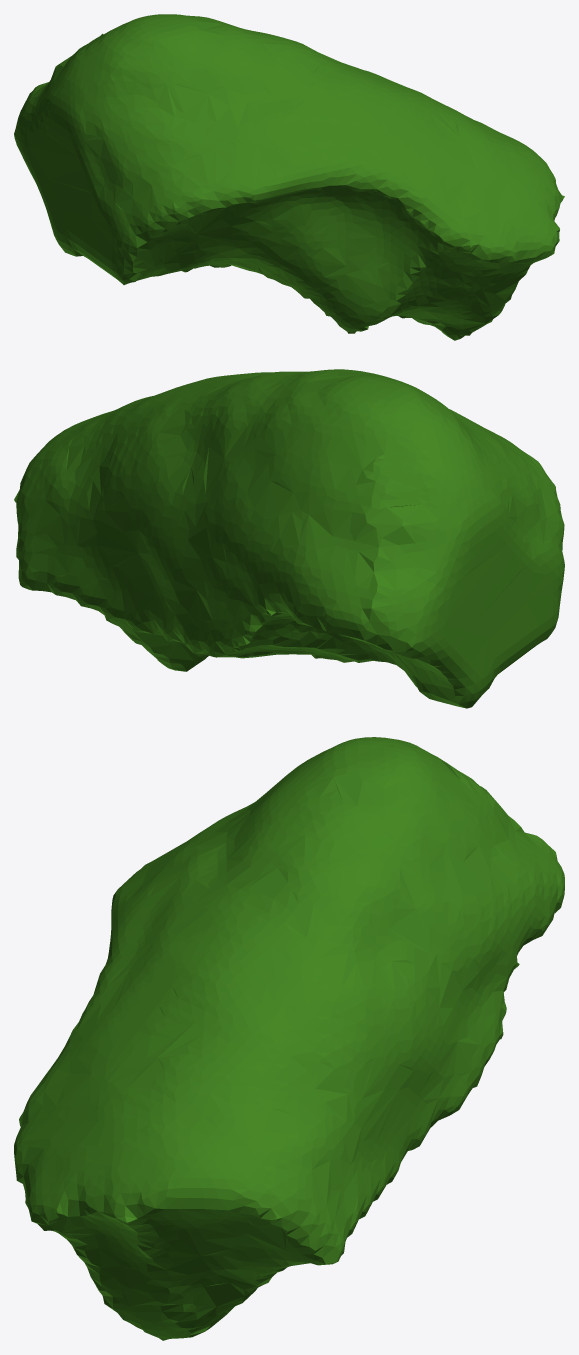
Rendered from Model_43_RH__Area_10_of_cortex_(A10).obj.
3 renders of one model, top to bottom at view 1: azimuth 30°, elevation 25°; view 2: azimuth 150°, elevation 25°; view 3: azimuth 270°, elevation 25°, orthographic. The views are drawn at different scales.
Bounding box in the file's own units: 4.79 × 3.53 × 4.03.
